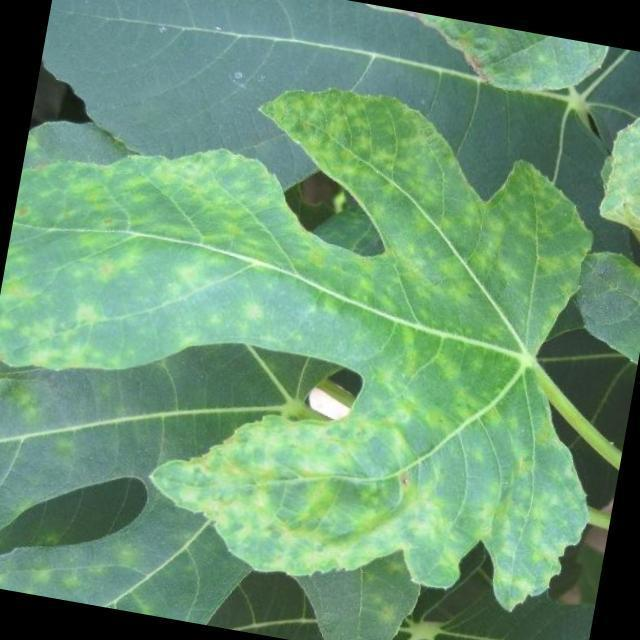Mosaic Virus: (318, 162, 591, 578), (0, 127, 356, 357)
